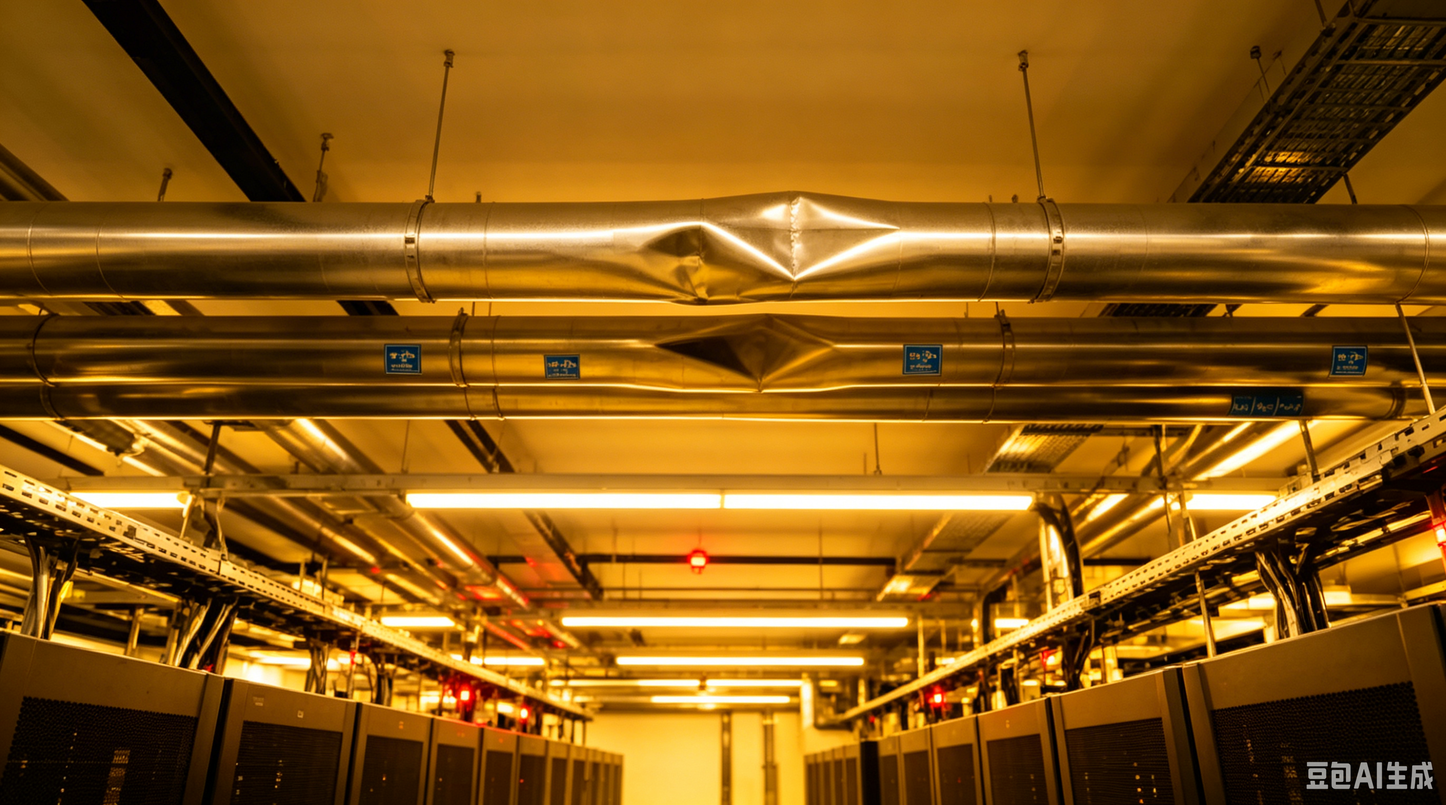Leakage: (733, 190, 928, 283), (644, 312, 841, 402), (613, 221, 747, 300)
